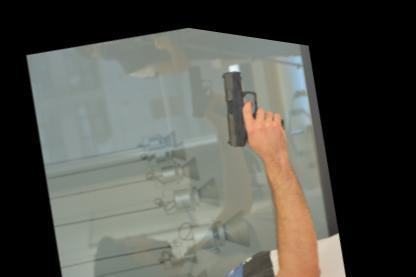pistol: (208, 47, 298, 146)
